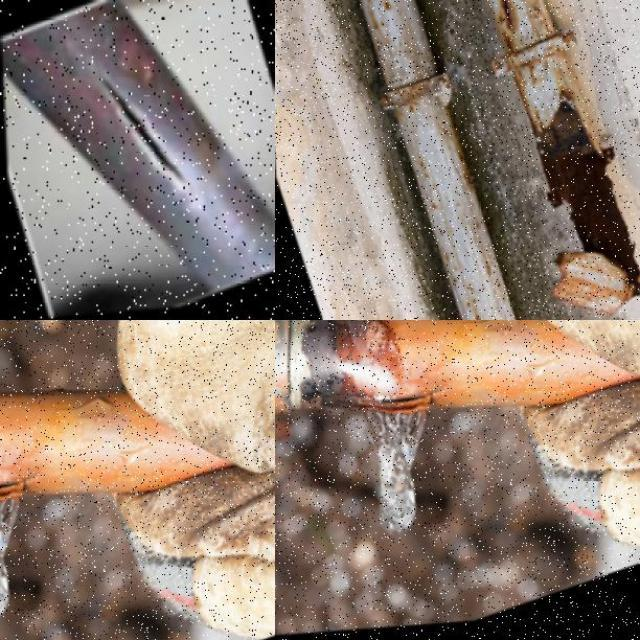crack: (88, 69, 192, 195), (339, 394, 444, 421), (1, 481, 38, 505)
hole: (536, 97, 635, 291)
